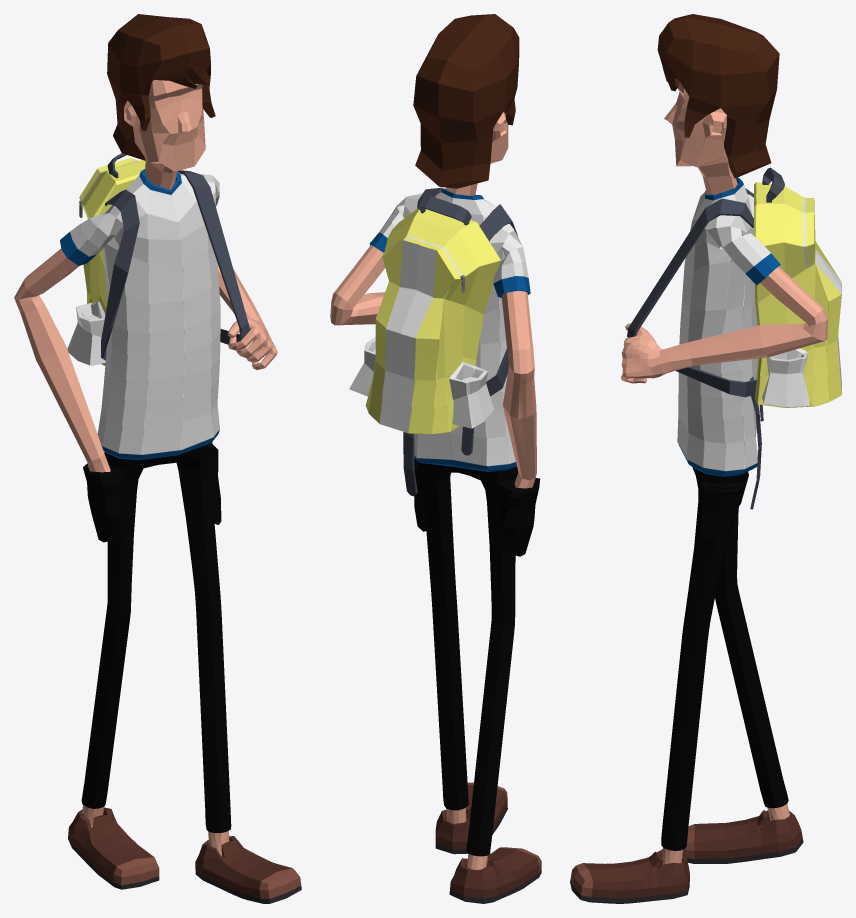
The model's file is Human.fbx.
3 renders of one model, left to right at view 1: azimuth 30°, elevation 25°; view 2: azimuth 150°, elevation 25°; view 3: azimuth 270°, elevation 25°, orthographic.
Parts seen in each view (by area): view 1: Renzo; view 2: Renzo; view 3: Renzo.
Part boxes in pixels (<box>): Renzo: <box>14,14,301,903</box>; Renzo: <box>330,14,541,903</box>; Renzo: <box>570,14,841,903</box>.
Bounding box in the file's own units: 40.94 × 171 × 49.19.
